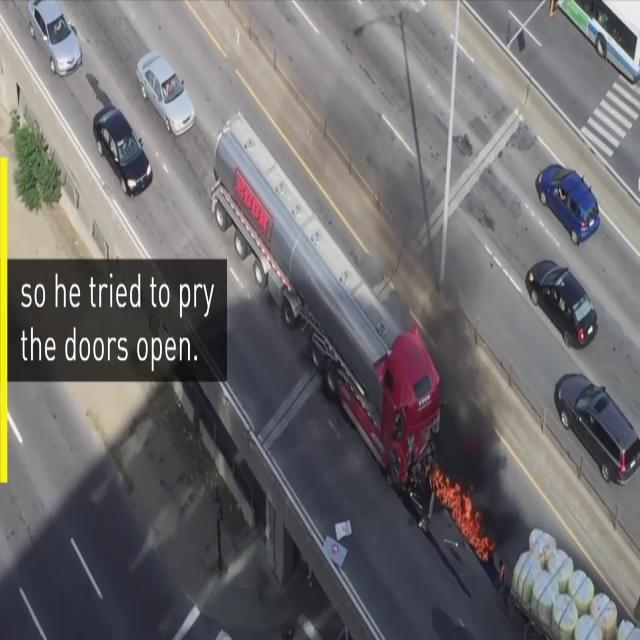Fire: (432, 457, 488, 556)
Smoke: (391, 166, 498, 464)
